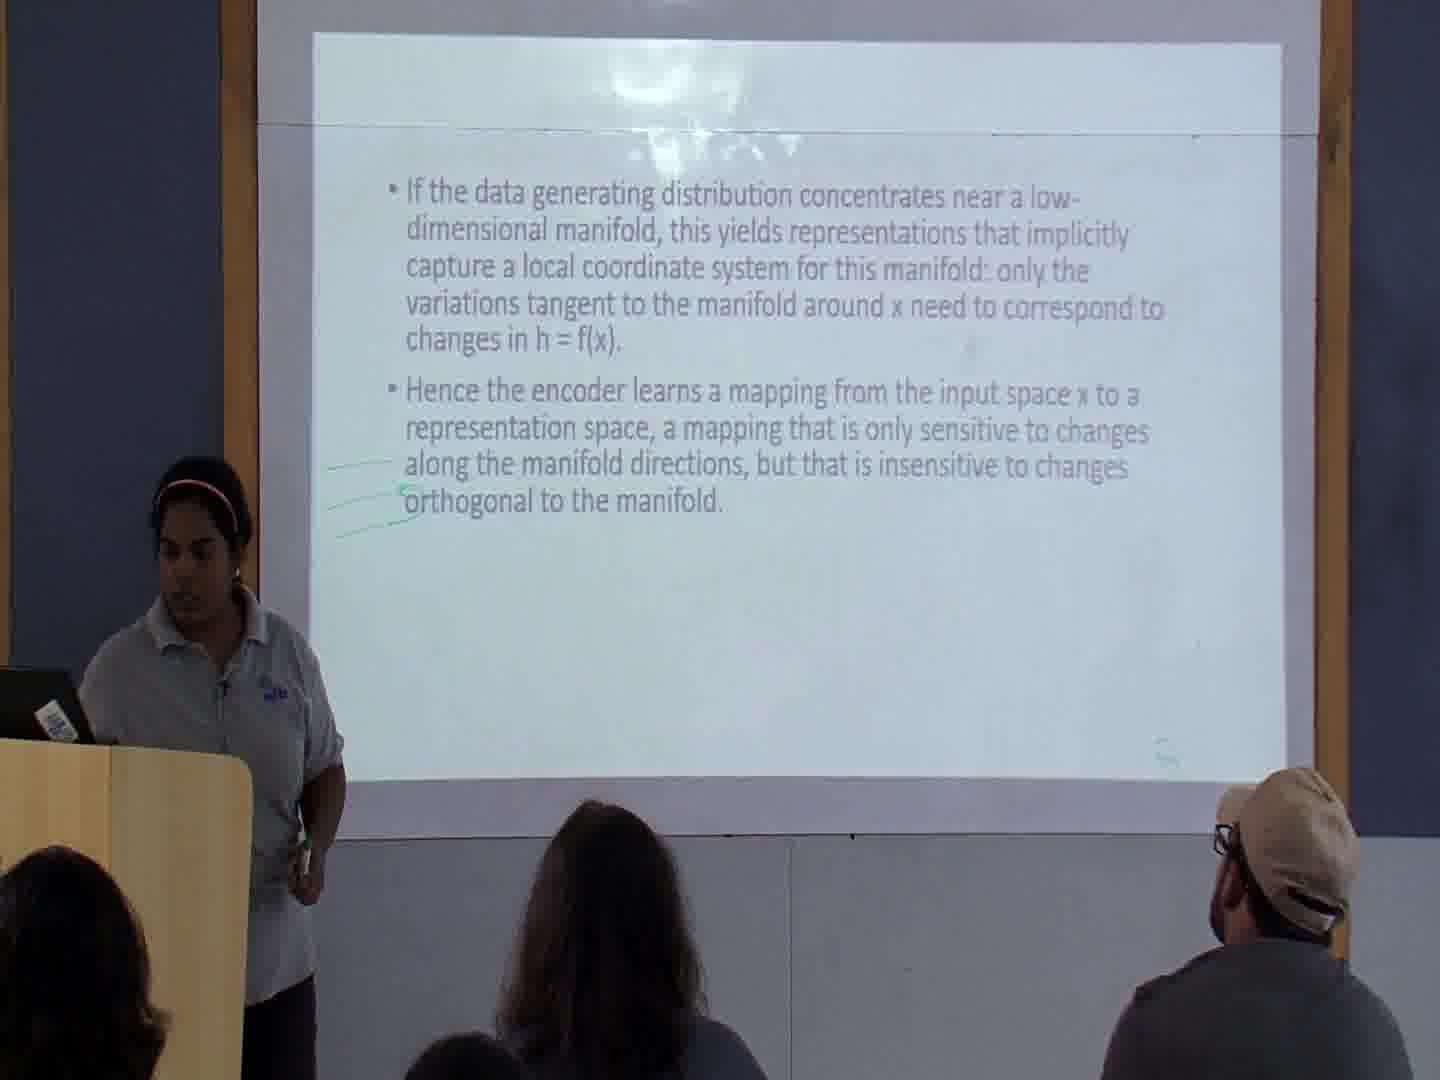slide: (314, 34, 1284, 785)
